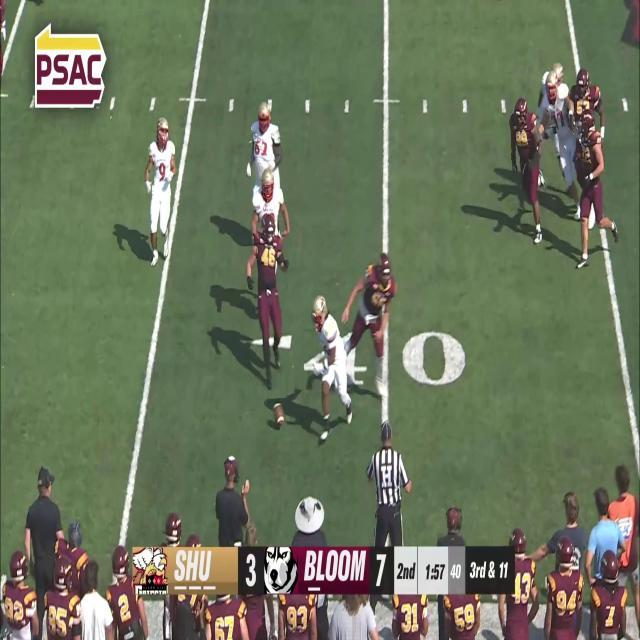football: (272, 402, 286, 428)
